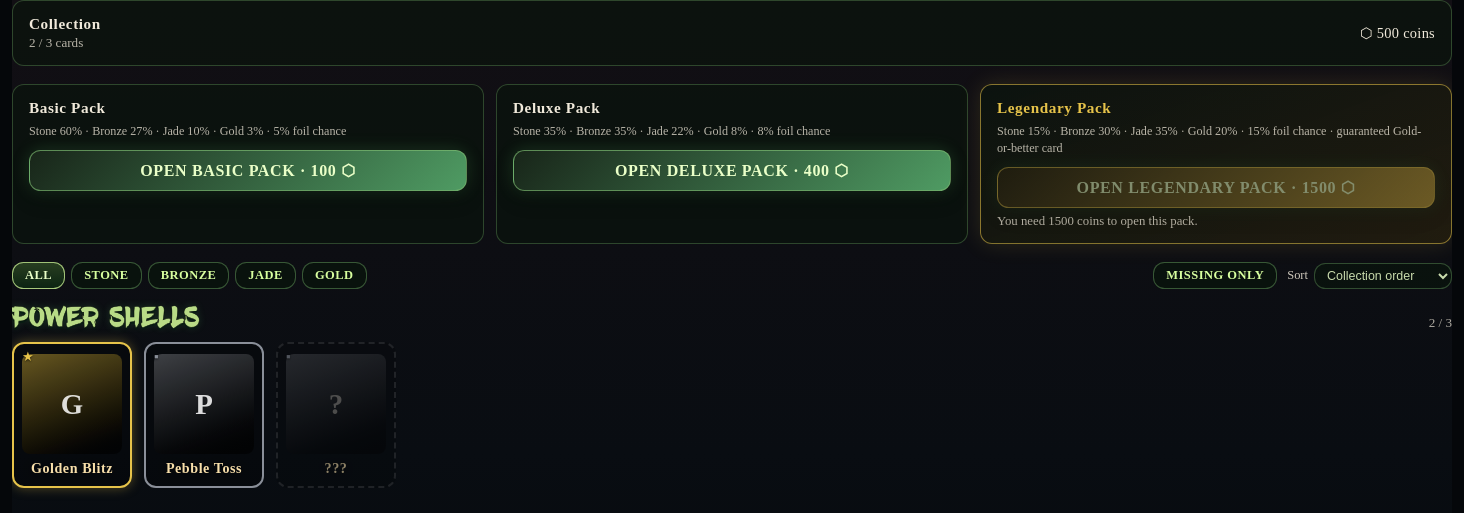
Test: ShellCardsModal filters › should show only unowned cards when missing-only is toggled on
The image size is (1464, 513).
Expected: the text "Golden Blitz" is shown, [31,460,113,476]
Click the button "Missing only".
click(1215, 276)  # box [1153,262,1277,289]
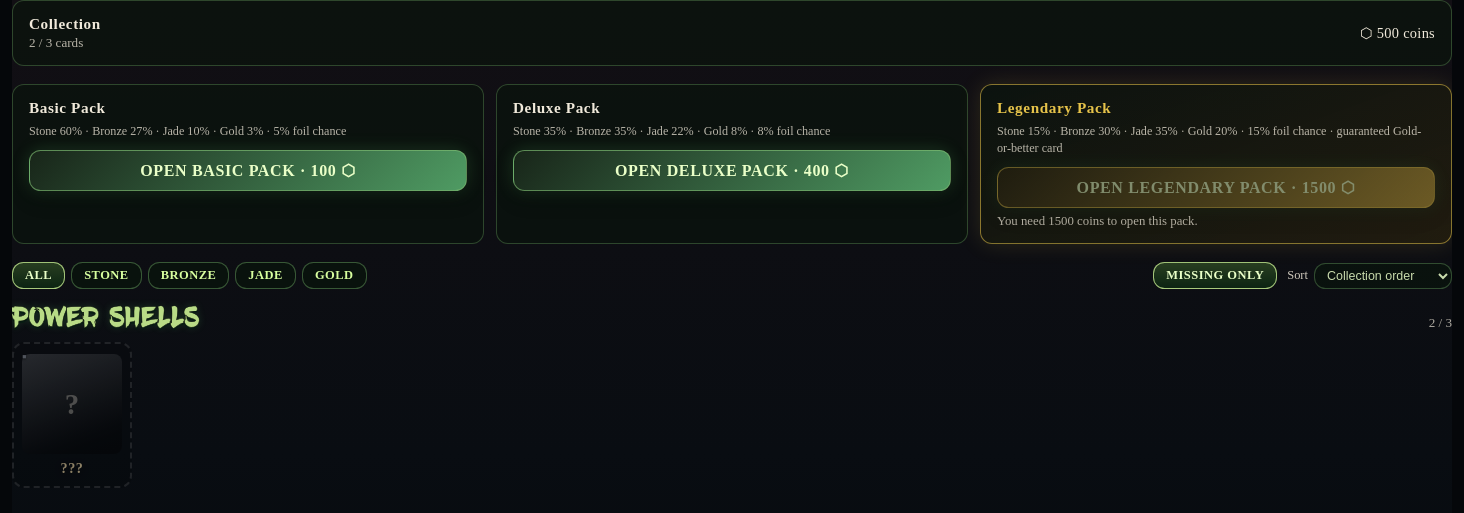
Expected: the text "???" is shown, [61,460,83,476]
Now the button "Golden Blitz" is gone
Now the button "Pebble Toss" is gone
